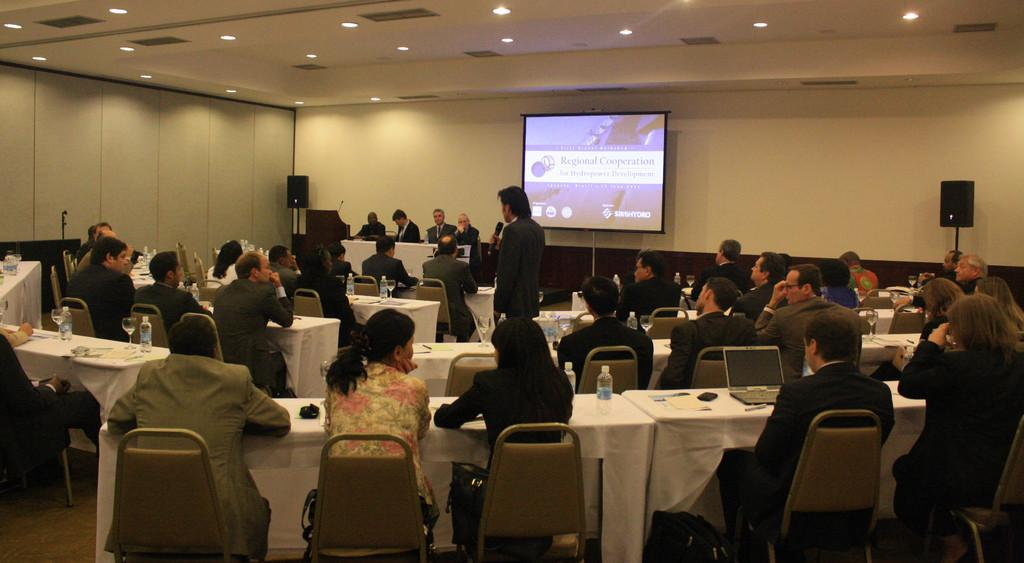Chair: (766, 408, 882, 562), (104, 427, 234, 562), (307, 433, 429, 562), (475, 422, 587, 562), (947, 414, 1023, 562), (576, 345, 639, 394), (444, 353, 498, 396), (292, 288, 324, 317)
Computer-monitor: (517, 108, 671, 234)
Laptop: (722, 345, 785, 405)
